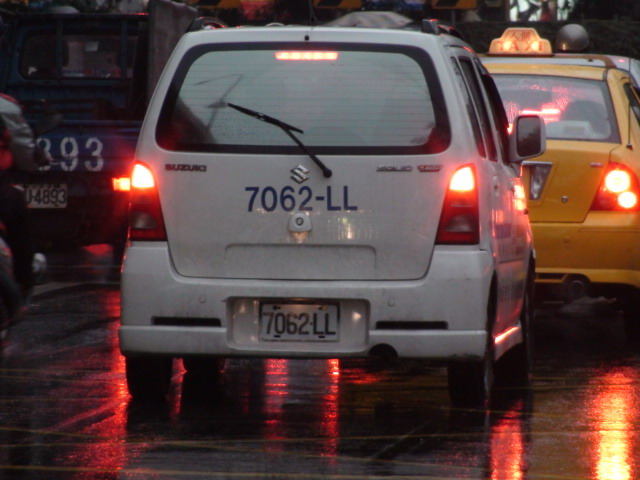plate: (257, 297, 344, 345), (23, 180, 73, 212)
